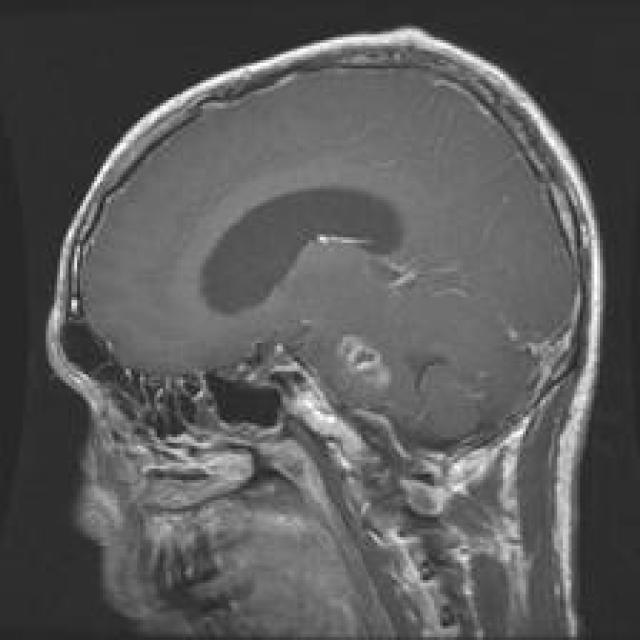glioma_tumor: (320, 310, 408, 424)
